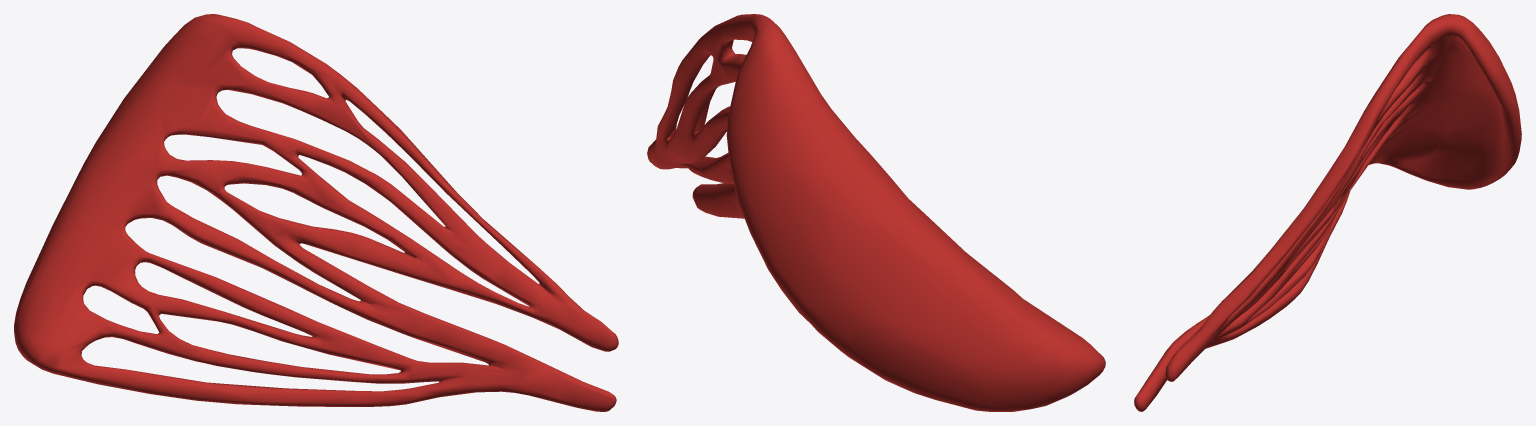
The model's file is circulatorio-posterior-leaflet-of-left-atrioventricular-valve.glb.
3 renders of one model, left to right at view 1: azimuth 30°, elevation 25°; view 2: azimuth 150°, elevation 25°; view 3: azimuth 270°, elevation 25°, orthographic. The views are drawn at different scales.
Visible parts, largest first — view 1: Posterior leaflet of left atrioventricular valve; view 2: Posterior leaflet of left atrioventricular valve; view 3: Posterior leaflet of left atrioventricular valve.
Boxes of the visible parts, box(x1,y1,x2,y2) form: Posterior leaflet of left atrioventricular valve: box(14, 14, 618, 411); Posterior leaflet of left atrioventricular valve: box(647, 14, 1105, 411); Posterior leaflet of left atrioventricular valve: box(1134, 14, 1521, 411).
Bounding box in the file's own units: 0.051 × 0.0331 × 0.0392.
